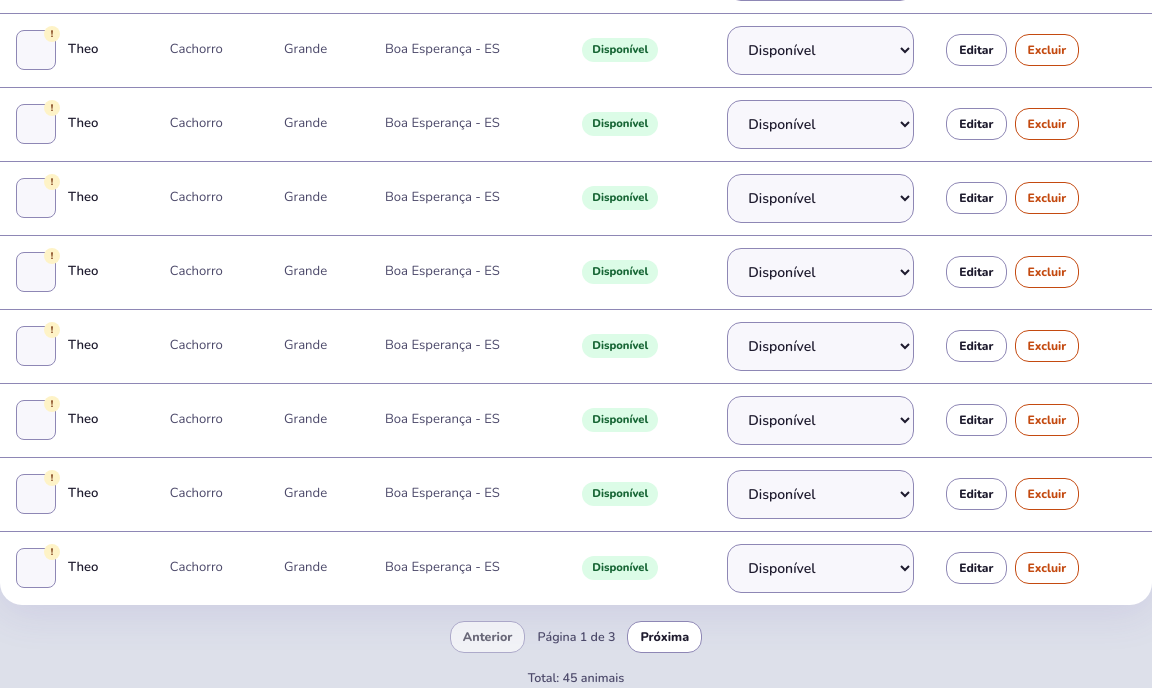
Test case: paginação › "Anterior" volta uma página e fica desabilitado na primeira
This screenshot has width=1152, height=688.
(page scrolled)
Expected: the button "Anterior" is disabled, [450,620,525,653]
Click the button "Próxima": click(665, 637) [627,620,702,653]
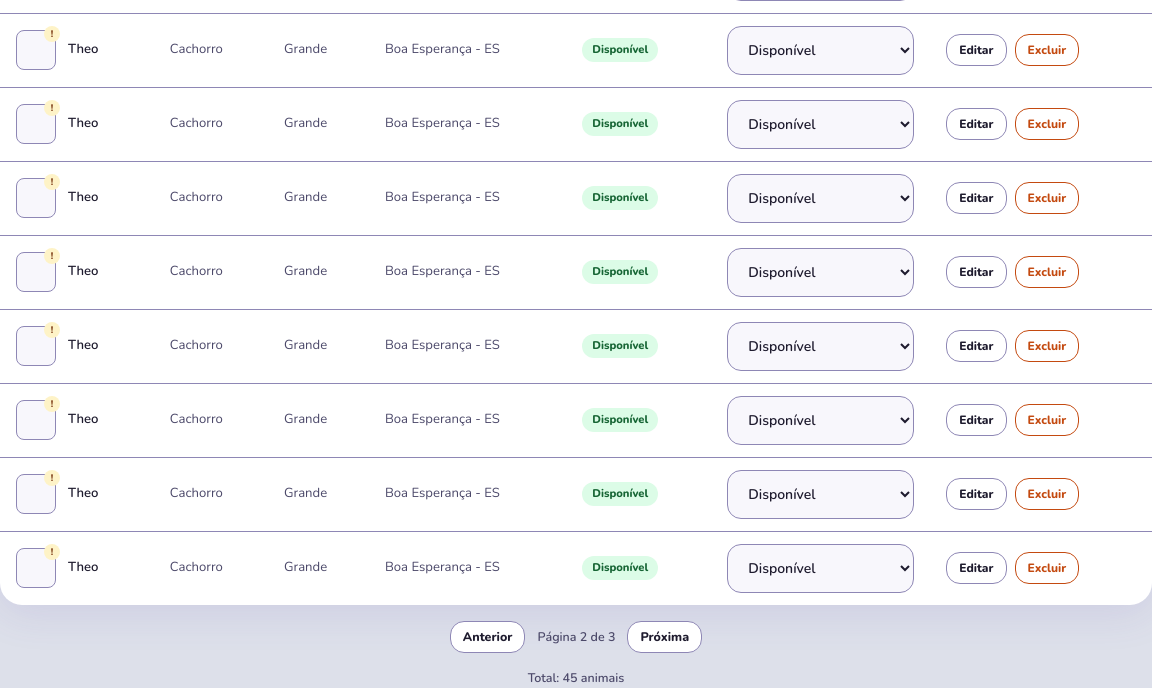
Expected: the button "Anterior" is enabled
Click the button "Anterior": click(488, 637) [450,620,525,653]
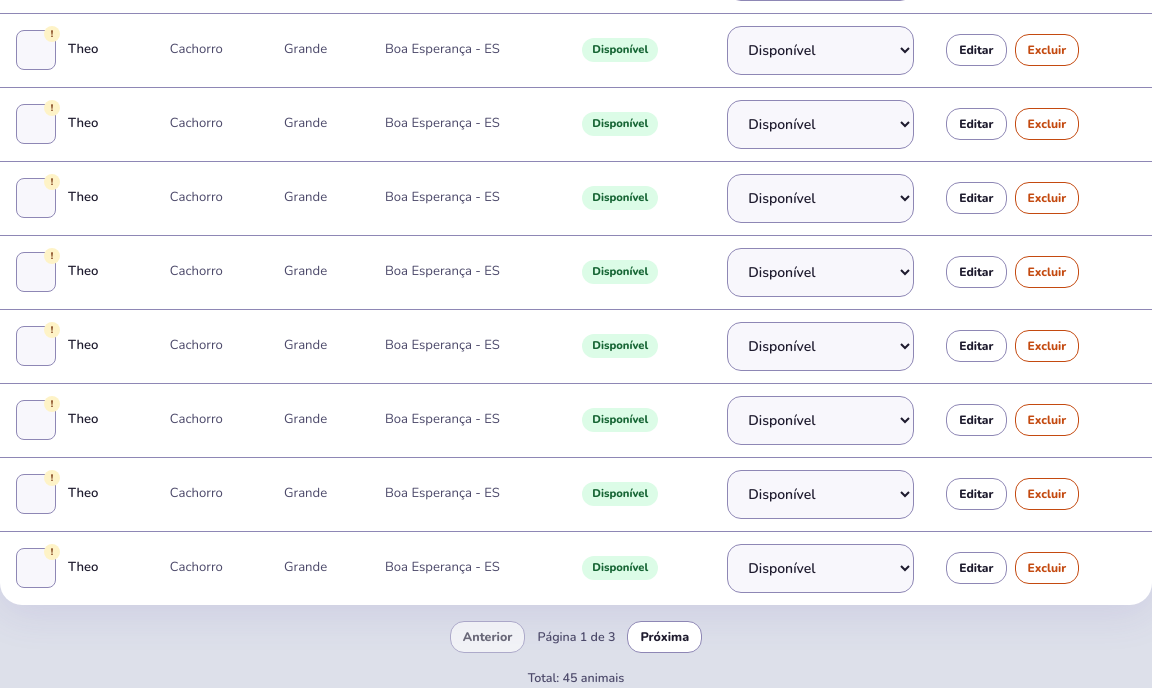
Expected: the text "Página 1 de 3" is shown, [538,628,616,646]
